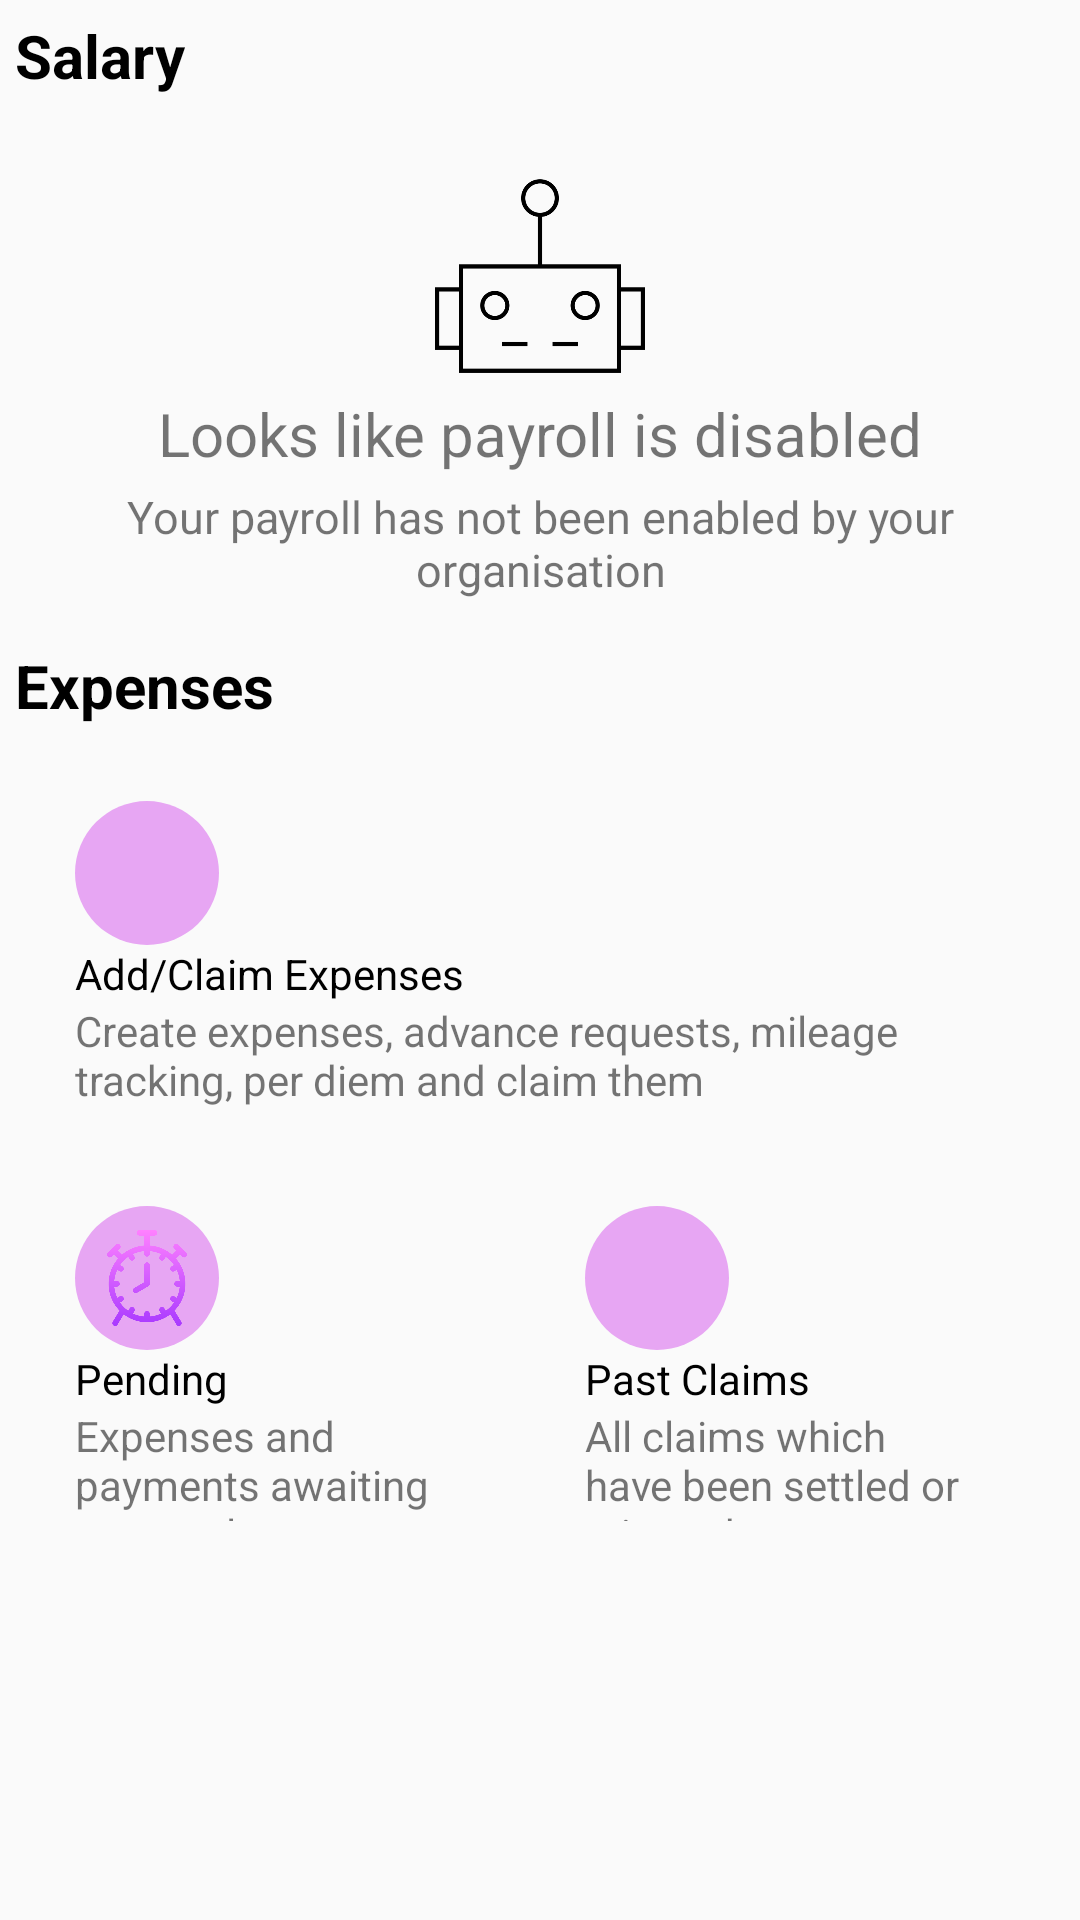

Screen size 1080*1920. Icon name, then its center in pixels as (x,y):
alarm: (147,1278)
bot: (540,276)
